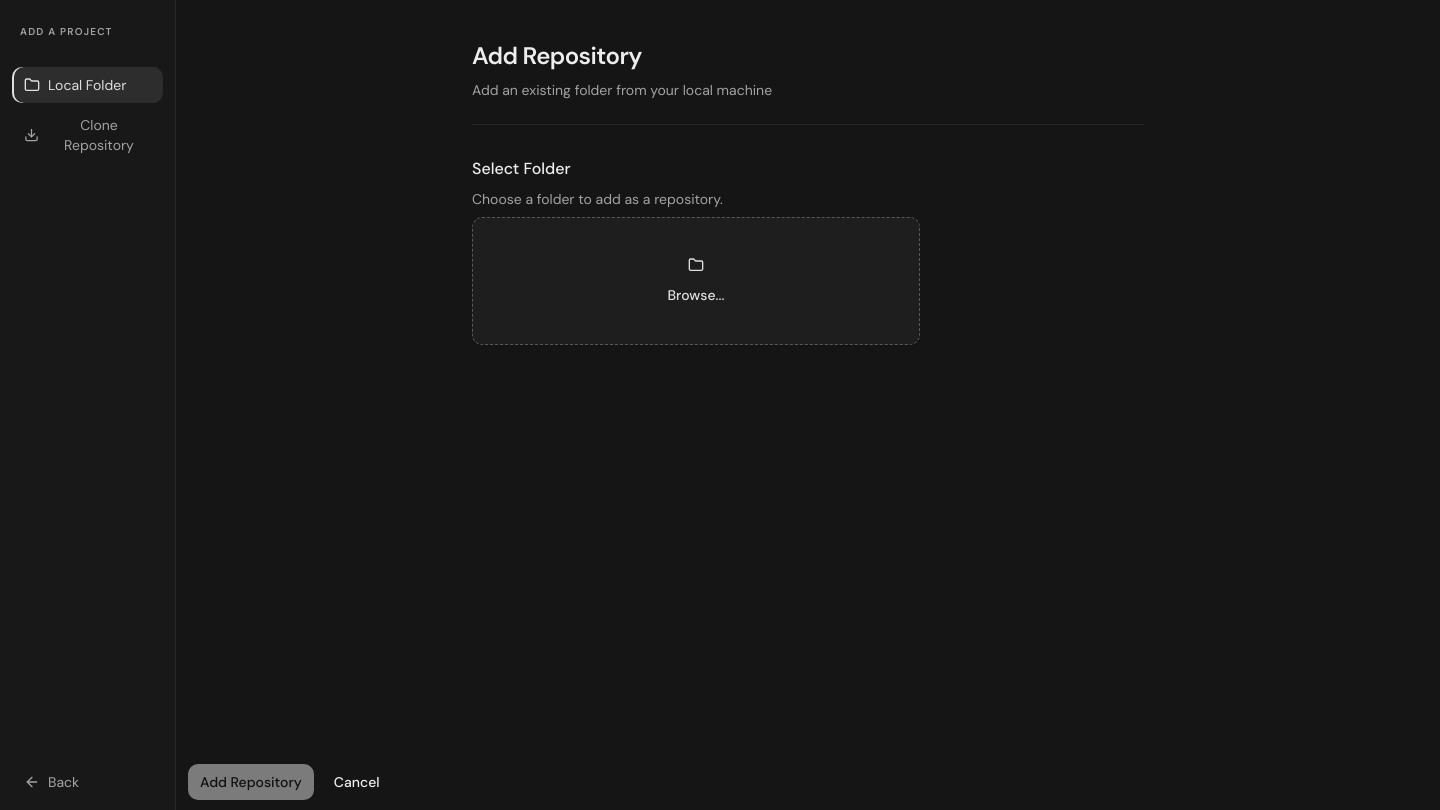
it: AddRepositoryScreen › git repository selection › shows git repository detected message for git repos
Click the button "Browse..." at [696, 295], box [472,217,920,345]
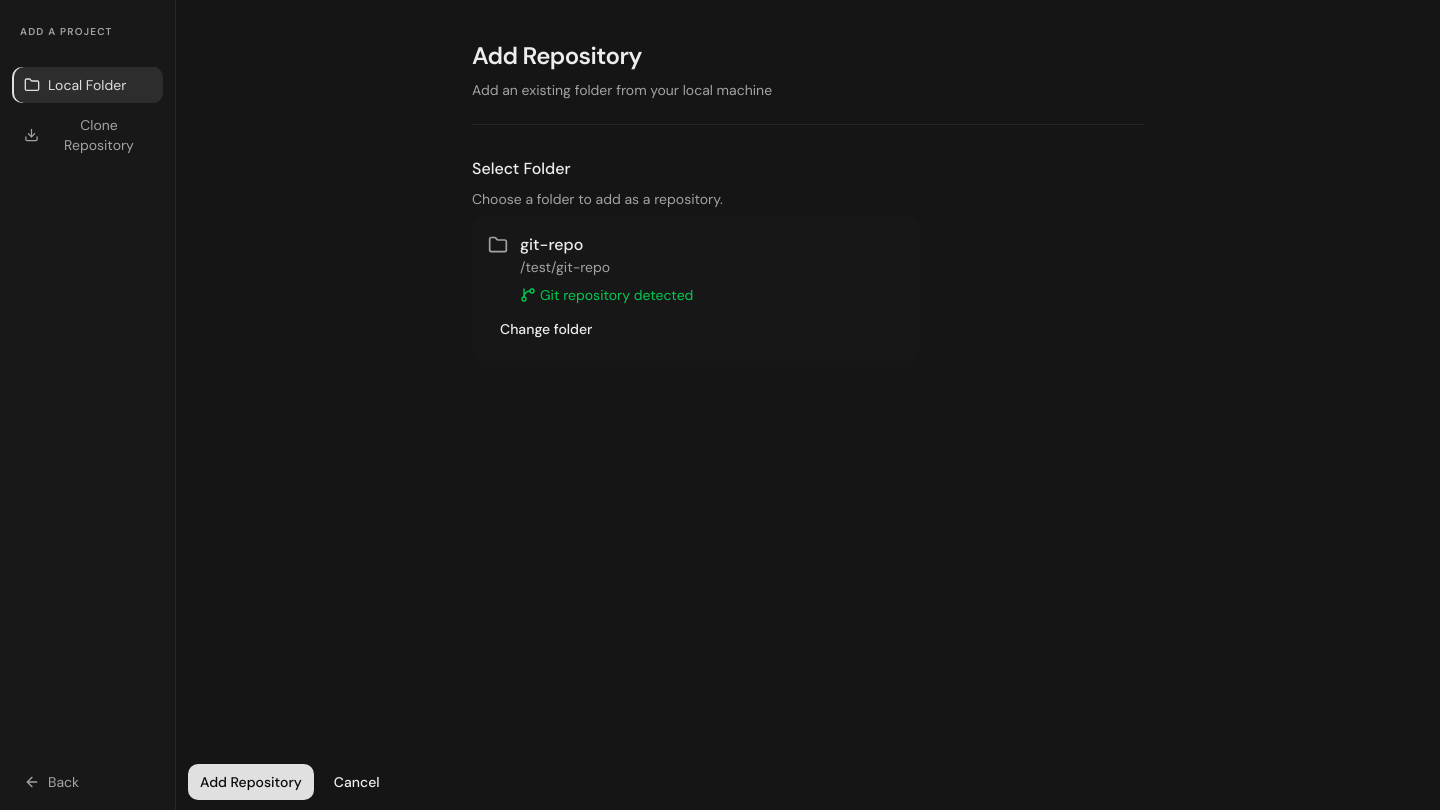
Expected: the text "Git repository detected" is shown, [540,285,693,305]
